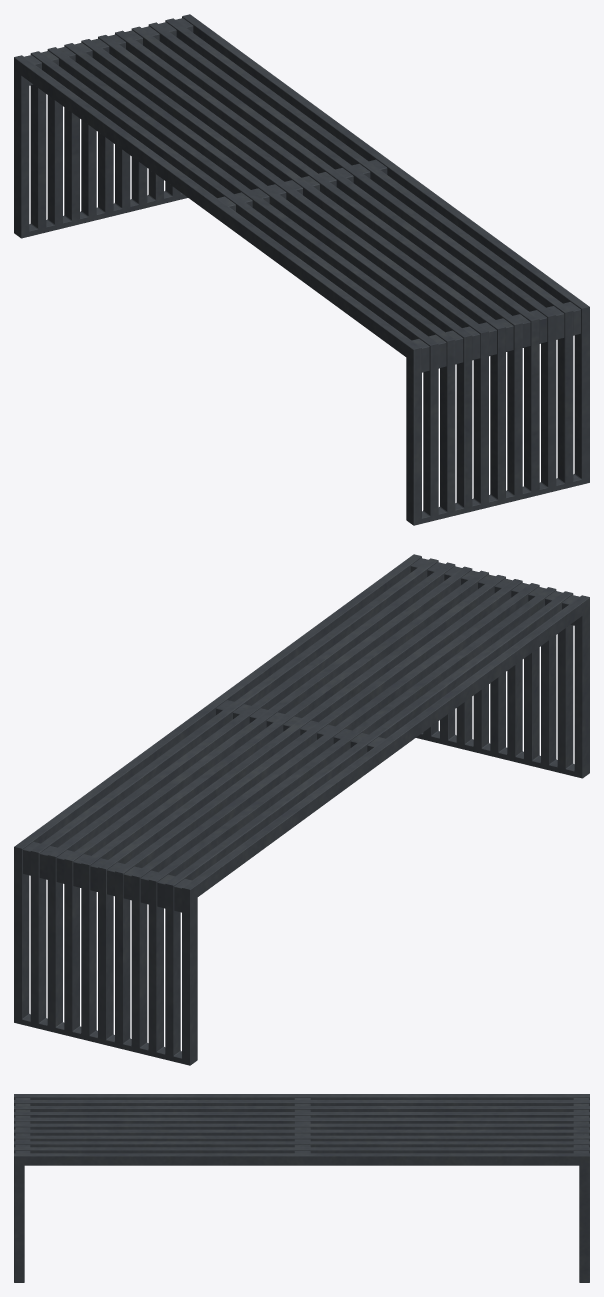
The model's file is metal_bench.glb.
The picture shows the model from 3 angles, top to bottom: view 1: azimuth 30°, elevation 25°; view 2: azimuth 150°, elevation 25°; view 3: azimuth 270°, elevation 25°; orthographic projection. The views are drawn at different scales.
Visible parts, largest first — view 1: Weldment.001_0; view 2: Weldment.001_0; view 3: Weldment.001_0.
Part boxes in pixels (x1,y1,x2,y2): Weldment.001_0: [14, 14, 589, 525]; Weldment.001_0: [14, 554, 589, 1065]; Weldment.001_0: [14, 1094, 589, 1282].
Bounding box in the file's own units: 1.3 × 1.24 × 5.1.
Materials: 1 (1 with a texture image).
